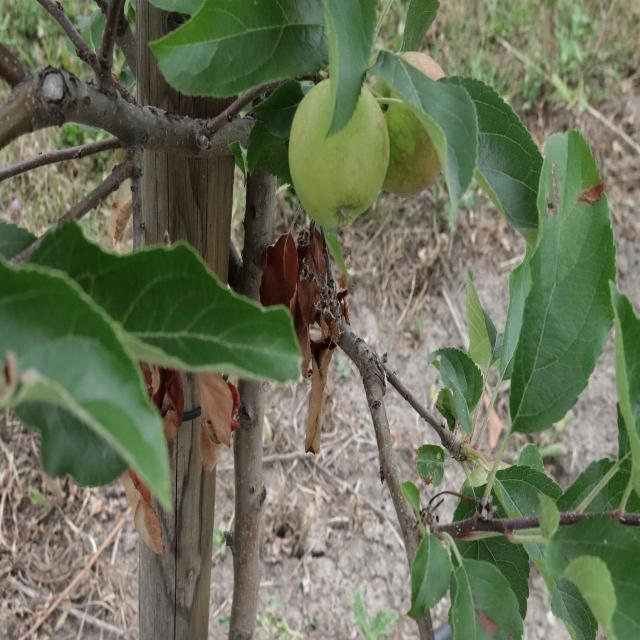-FireBlight-: (272, 228, 340, 444), (198, 365, 238, 461), (141, 357, 187, 435)
